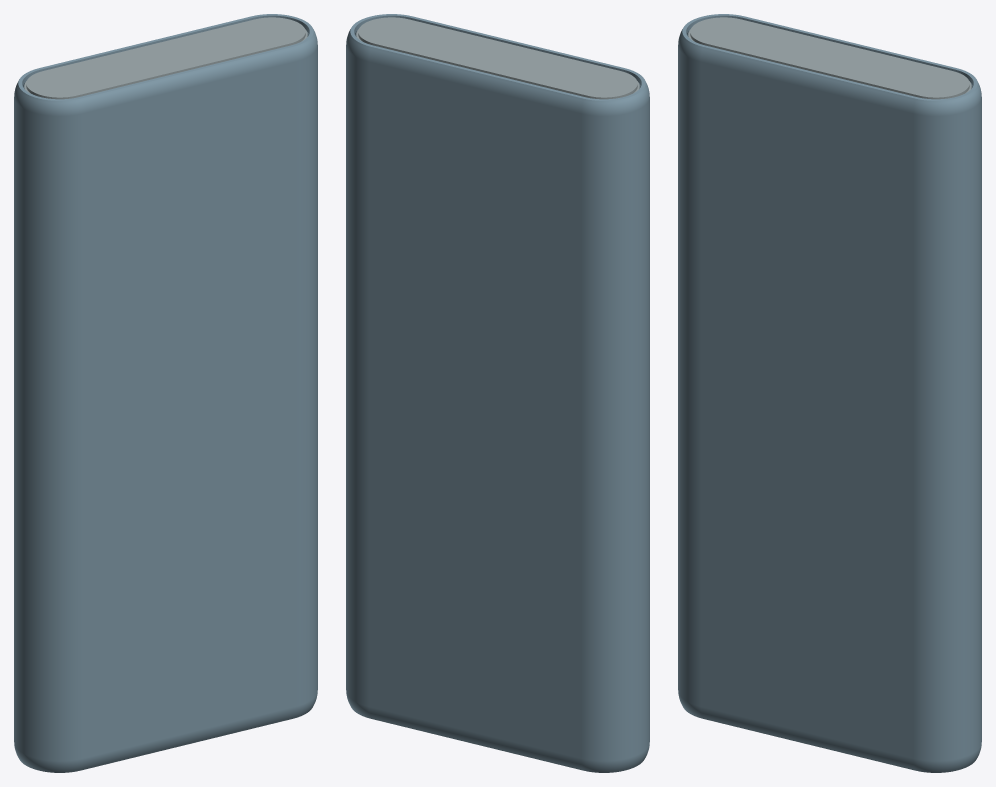
Rendered from AnkerPowerCore26800.glb.
The picture shows the model from 3 angles, left to right: view 1: azimuth 30°, elevation 25°; view 2: azimuth 150°, elevation 25°; view 3: azimuth 330°, elevation 25°; orthographic projection.
Visible parts, largest first — view 1: 004710_A;2-Case26800_top, 004709_A;2-Case26800_btm; view 2: 004709_A;2-Case26800_btm, 004710_A;2-Case26800_top; view 3: 004710_A;2-Case26800_top, 004709_A;2-Case26800_btm.
Part boxes in pixels (x1=…): 004710_A;2-Case26800_top: x1=20, y1=23, x2=317, y2=772; 004709_A;2-Case26800_btm: x1=14, y1=14, x2=307, y2=763; 004709_A;2-Case26800_btm: x1=346, y1=17, x2=643, y2=772; 004710_A;2-Case26800_top: x1=356, y1=14, x2=649, y2=763; 004710_A;2-Case26800_top: x1=678, y1=23, x2=975, y2=772; 004709_A;2-Case26800_btm: x1=688, y1=14, x2=981, y2=763.
Size of the model in its own units: 0.0817 by 0.18 by 0.0222.
